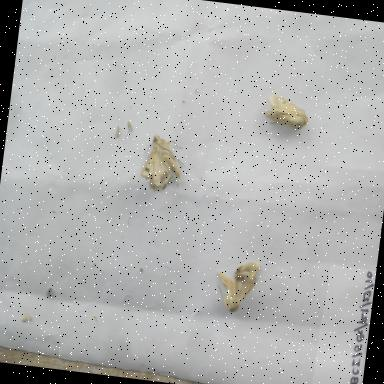abw: (209, 252, 264, 325), (134, 130, 190, 201), (258, 88, 318, 136)
